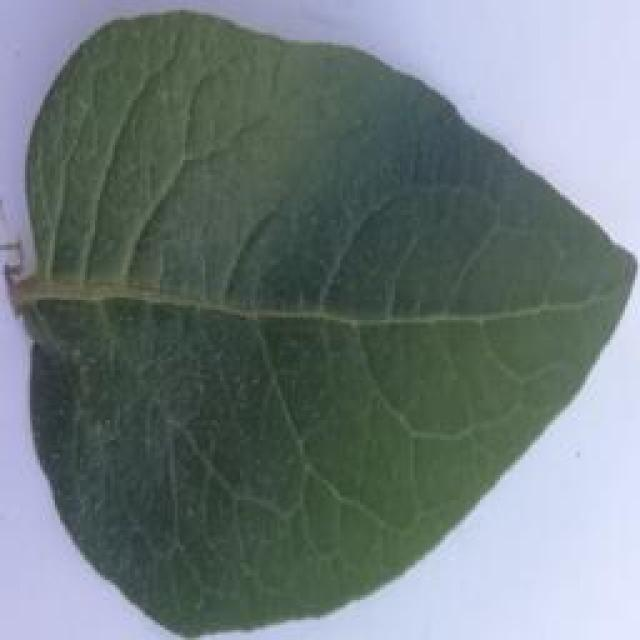Potato_Healthy: (11, 9, 626, 634)
